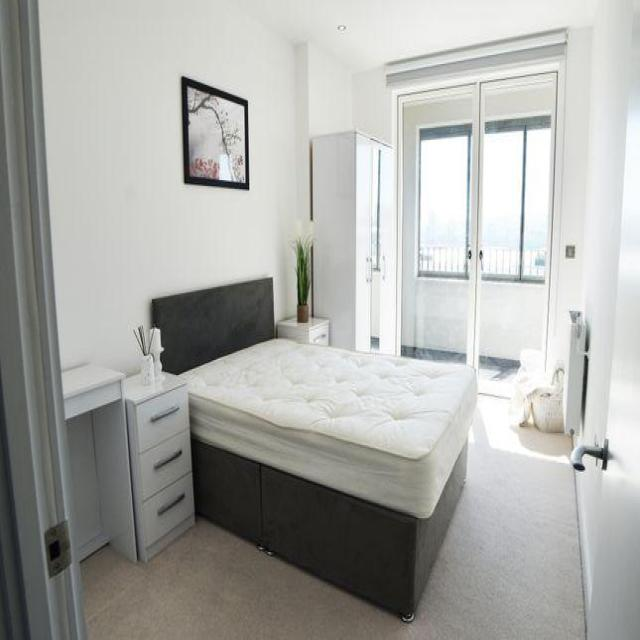Wall: (81, 397, 585, 639), (41, 0, 286, 372), (115, 4, 395, 314), (560, 0, 632, 441), (240, 1, 596, 71), (575, 459, 601, 638)
